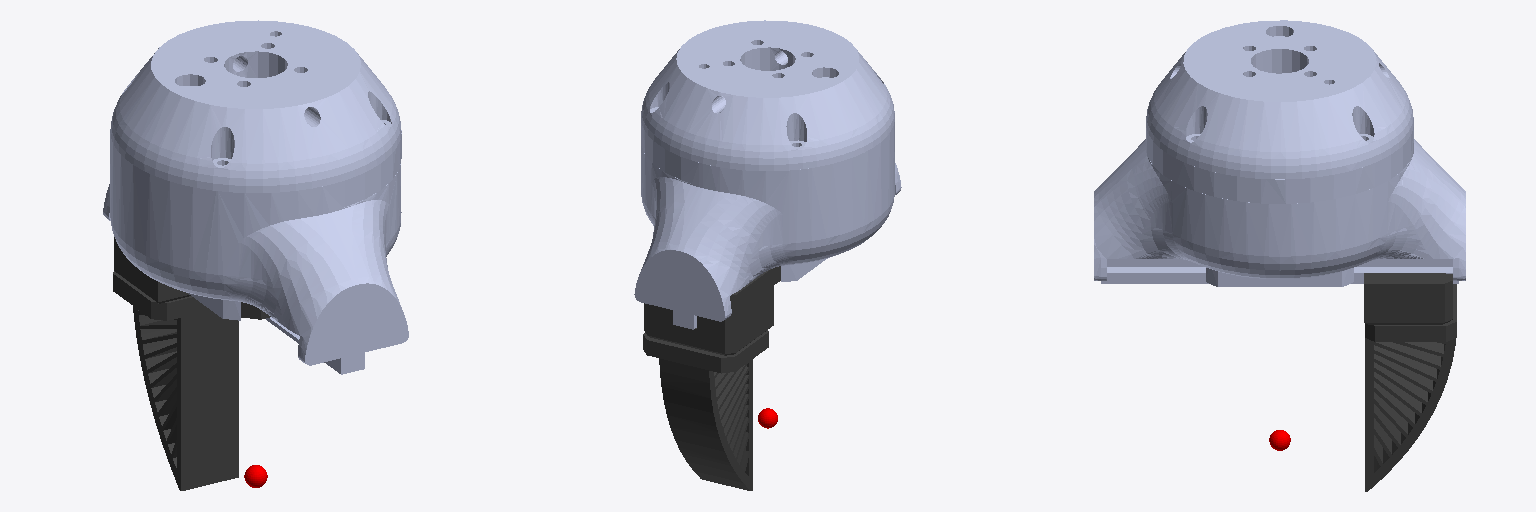
robot.urdf — ssg48_gripper:
<?xml version="1.0" encoding="utf-8"?>
<!-- SSG48 Gripper only  PAR6 robot arm links removed -->
<robot
  name="ssg48_gripper">
  <link
    name="gripper">
    <inertial>
      <origin
        xyz="-6.7987E-05 0.0001694 -0.077391"
        rpy="0 0 0" />
      <mass
        value="0.374" />
      <inertia
        ixx="0.00012751"
        ixy="-1.7736E-07"
        ixz="-2.8206E-06"
        iyy="5.8635E-05"
        iyz="-5.29E-07"
        izz="0.00014769" />
    </inertial>
    <visual>
      <origin
        xyz="0 0 0"
        rpy="0 0 0" />
      <geometry>
        <mesh
          filename="package://ssg48_gripper/meshes/gripper.STL" />
      </geometry>
      <material
        name="">
        <color
          rgba="0.792156862745098 0.819607843137255 0.933333333333333 1" />
      </material>
    </visual>
    <collision>
      <origin
        xyz="0 0 0"
        rpy="0 0 0" />
      <geometry>
        <mesh
          filename="package://ssg48_gripper/meshes/gripper.STL" />
      </geometry>
    </collision>
  </link>
  <link
    name="jaw1">
    <inertial>
      <origin
        xyz="0.0033269 0.029197 -0.0097237"
        rpy="0 0 0" />
      <mass
        value="0.02" />
      <inertia
        ixx="3.7875E-06"
        ixy="6.5971E-07"
        ixz="3.113E-07"
        iyy="1.5397E-06"
        iyz="-6.1777E-07"
        izz="4.4716E-06" />
    </inertial>
    <visual>
      <origin
        xyz="0 0 0"
        rpy="0 0 0" />
      <geometry>
        <mesh
          filename="package://ssg48_gripper/meshes/jaw1.STL" />
      </geometry>
      <material
        name="">
        <color
          rgba="0.29804 0.29804 0.29804 1" />
      </material>
    </visual>
    <collision>
      <origin
        xyz="0 0 0"
        rpy="0 0 0" />
      <geometry>
        <mesh
          filename="package://ssg48_gripper/meshes/jaw1.STL" />
      </geometry>
    </collision>
  </link>
  <joint
    name="jaw1_JOINT"
    type="prismatic">
    <origin
      xyz="0 0 -0.11745"
      rpy="-3.1416 0 -3.1416" />
    <parent
      link="gripper" />
    <child
      link="jaw1" />
    <axis
      xyz="0 -1 0" />
    <limit
      lower="-0.024"
      upper="0"
      effort="20"
      velocity="0.1" />
  </joint>
  <link
    name="jaw2">
    <inertial>
      <origin
        xyz="-0.0033269 -0.029197 -0.0097237"
        rpy="0 0 0" />
      <mass
        value="0.02" />
      <inertia
        ixx="3.7875E-06"
        ixy="6.5971E-07"
        ixz="-3.113E-07"
        iyy="1.5397E-06"
        iyz="6.1777E-07"
        izz="4.4716E-06" />
    </inertial>
    <visual>
      <origin
        xyz="0 0 0"
        rpy="0 0 0" />
      <geometry>
        <mesh
          filename="package://ssg48_gripper/meshes/jaw2.STL" />
      </geometry>
      <material
        name="">
        <color
          rgba="0.29804 0.29804 0.29804 1" />
      </material>
    </visual>
    <collision>
      <origin
        xyz="0 0 0"
        rpy="0 0 0" />
      <geometry>
        <mesh
          filename="package://ssg48_gripper/meshes/jaw2.STL" />
      </geometry>
    </collision>
  </link>
  <joint
    name="jaw2_JOINT" type="prismatic">
    <mimic joint="jaw1_JOINT" multiplier="-1" offset="0"/>
    <origin
      xyz="0 0 -0.11745"
      rpy="-3.1416 0 -3.1416" />
    <parent
      link="gripper" />
    <child
      link="jaw2" />
    <axis
      xyz="0 -1 0" />
    <limit
      lower="0"
      upper="0.024"
      effort="20"
      velocity="0.1" />
  </joint>

  <link name="tcp">
    <visual>
      <origin xyz="0 0 0" rpy="0 0 0"/>
      <geometry>
        <sphere radius="0.003"/>
      </geometry>
      <material name="red">
        <color rgba="1 0 0 1"/>
      </material>
    </visual>
  </link>

  <joint name="tcp_fixed_joint" type="fixed">
    <parent link="gripper"/>
    <child link="tcp"/>
    <origin xyz="0 0 -0.16" rpy="0 0 0"/>
  </joint>

  <transmission name="jaw_transmission">
    <type>transmission_interface/SimpleTransmission</type>
    <joint name="jaw1_JOINT">
      <hardwareInterface>PositionJointInterface</hardwareInterface>
    </joint>
    <actuator name="jaw_motor">
      <hardwareInterface>PositionJointInterface</hardwareInterface>
      <mechanicalReduction>1</mechanicalReduction>
    </actuator>
  </transmission>

</robot>

--- What the picture shows (computed from the rendered views, not written in the file) ---
Views: 3 orthographic renders of the robot side by side, from view 1: azimuth 30°, elevation 25°; view 2: azimuth 150°, elevation 25°; view 3: azimuth 270°, elevation 25°.
Robot: ssg48_gripper — 4 links, 3 joints (2 prismatic, 1 fixed); root link gripper; default pose: all joints at 0.
Visible links, largest first — view 1: gripper, jaw2; view 2: gripper, jaw2; view 3: gripper, jaw2.
Boxes of the visible links, box(x1,y1,x2,y2) form: gripper: box(103, 20, 408, 374); jaw2: box(113, 237, 270, 490); gripper: box(634, 20, 901, 329); jaw2: box(643, 266, 780, 490); gripper: box(1094, 20, 1465, 286); jaw2: box(1364, 273, 1456, 491).
Size in the robot's own frame: 0.075 by 0.104 by 0.1288 metres.
Meshes: 3 distinct files referenced, 2 mesh visuals loaded (2 binary STL); not drawn: 1 (reference not matched to a file when rendering).
